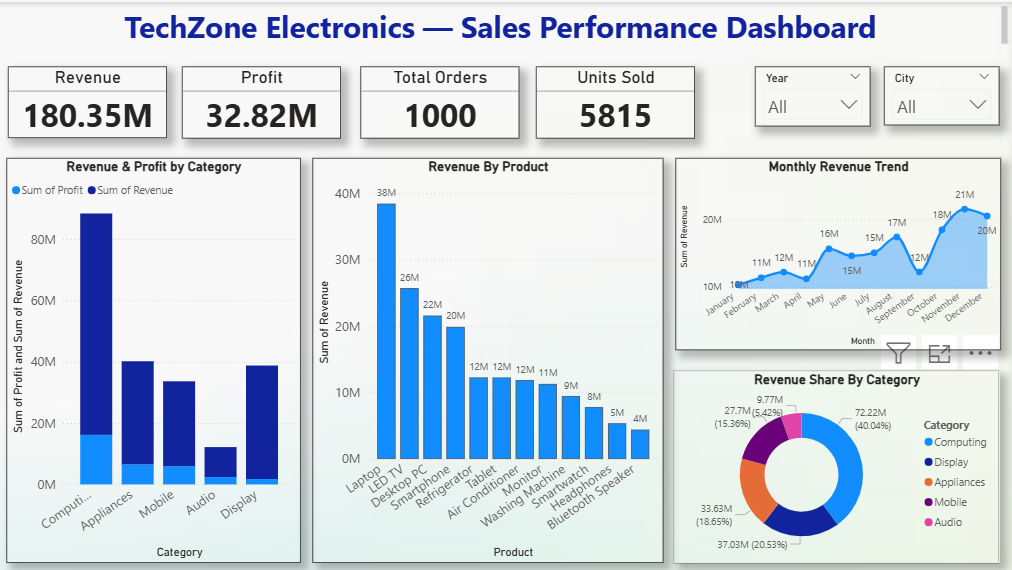

The page's visual inventory and layout, read from the dashboard file:
{"tool":"powerbi","page":{"name":"Business Overvi","canvas":[1280,720],"ordinal":0},"visuals":[{"type":"textbox","box":[0,0,1279.4,58.6],"z":0},{"type":"card","title":"Revenue","fields":{"Values":["Sum(techzone_sales.Revenue)"]},"box":[15.7,81.3,200,90],"z":1000},{"type":"card","title":"Profit","fields":{"Values":["Sum(techzone_sales.Profit)"]},"box":[234.3,81.3,200.3,90.7],"z":2000},{"type":"card","title":"Total Orders","fields":{"Values":["CountNonNull(techzone_sales.Order_ID)"]},"box":[459.2,81.3,200.3,90.7],"z":3000},{"type":"card","title":"Units Sold","fields":{"Values":["Sum(techzone_sales.Units_Sold)"]},"box":[680.3,81.3,200.3,90.7],"z":4000},{"type":"columnChart","title":"Revenue & Profit by Category","fields":{"Category":["techzone_sales.Category"],"Y":["Sum(techzone_sales.Profit)","Sum(techzone_sales.Revenue)"]},"box":[13.2,196.5,370.4,510.2],"z":5000},{"type":"donutChart","title":"Revenue Share By Category","fields":{"Y":["Sum(techzone_sales.Revenue)"],"Category":["techzone_sales.Category"]},"box":[854.2,464.9,410.1,241.9],"z":6000},{"type":"columnChart","title":"Revenue By Product","fields":{"Category":["techzone_sales.Product"],"Y":["Sum(techzone_sales.Revenue)"]},"box":[398.7,196.5,442.2,510.2],"z":7000},{"type":"slicer","fields":{"Values":["techzone_sales.Date.Variation.Date Hierarchy.Year"]},"box":[956.2,81.3,145.5,75.6],"z":8000},{"type":"slicer","fields":{"Values":["techzone_sales.City"]},"box":[1118.7,81.3,145.5,73.7],"z":9000},{"type":"lineChart","title":"Monthly Revenue Trend","fields":{"Y":["Sum(techzone_sales.Revenue)"],"Category":["techzone_sales.Date.Variation.Date Hierarchy.Month"]},"box":[856.1,196.5,410.1,241.9],"z":10000}]}

Visuals, with their boxes in screenshot pixels (x1, y1, x2, y2), scaled from the page's 1280x720 canvas onto the 1012x570 screenshot:
textbox: box=[0, 0, 1011, 46]
"Revenue" card: box=[12, 64, 171, 136]
"Profit" card: box=[185, 64, 344, 136]
"Total Orders" card: box=[363, 64, 521, 136]
"Units Sold" card: box=[538, 64, 696, 136]
"Revenue & Profit by Category" columnChart: box=[10, 156, 303, 559]
"Revenue Share By Category" donutChart: box=[675, 368, 1000, 560]
"Revenue By Product" columnChart: box=[315, 156, 665, 559]
slicer - techzone_sales.Date.Variation.Date Hierarchy.Year: box=[756, 64, 871, 124]
slicer - techzone_sales.City: box=[884, 64, 1000, 123]
"Monthly Revenue Trend" lineChart: box=[677, 156, 1001, 347]
